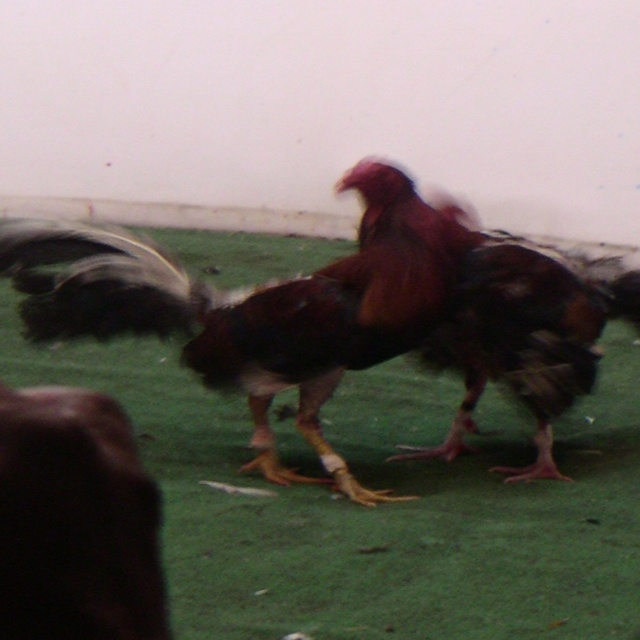Chicken: (331, 160, 624, 486)
